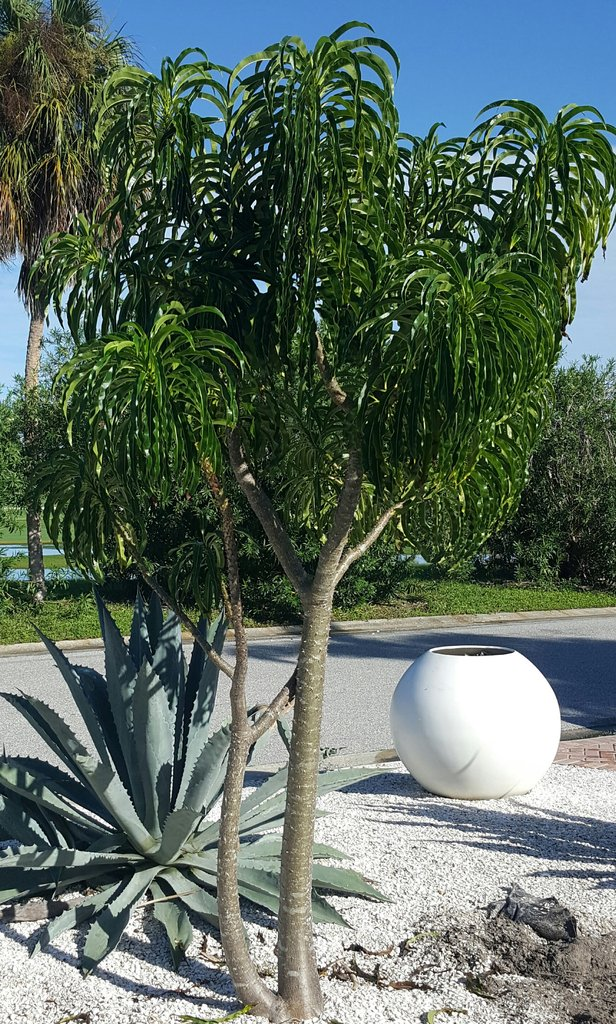Pachypodium meridionale: (210, 301, 435, 1010)
